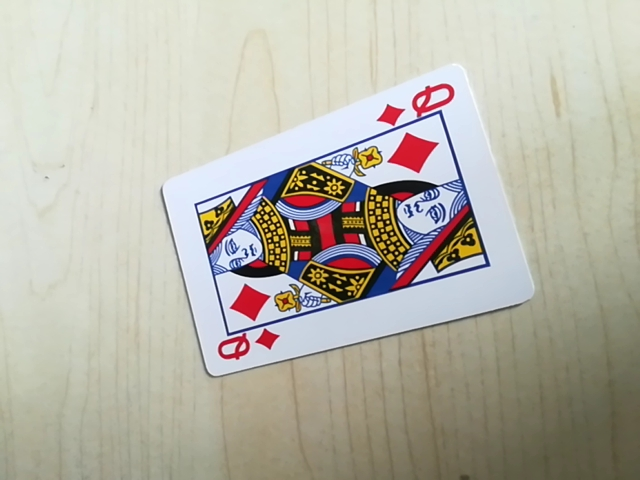fk q: (372, 79, 461, 129), (212, 326, 283, 368)
